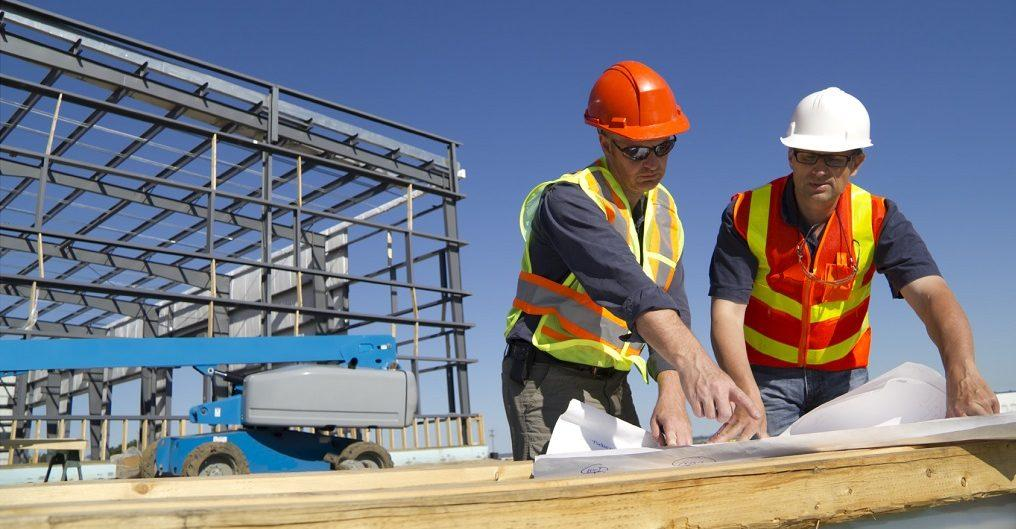helmet: (583, 59, 695, 145), (780, 87, 874, 156)
